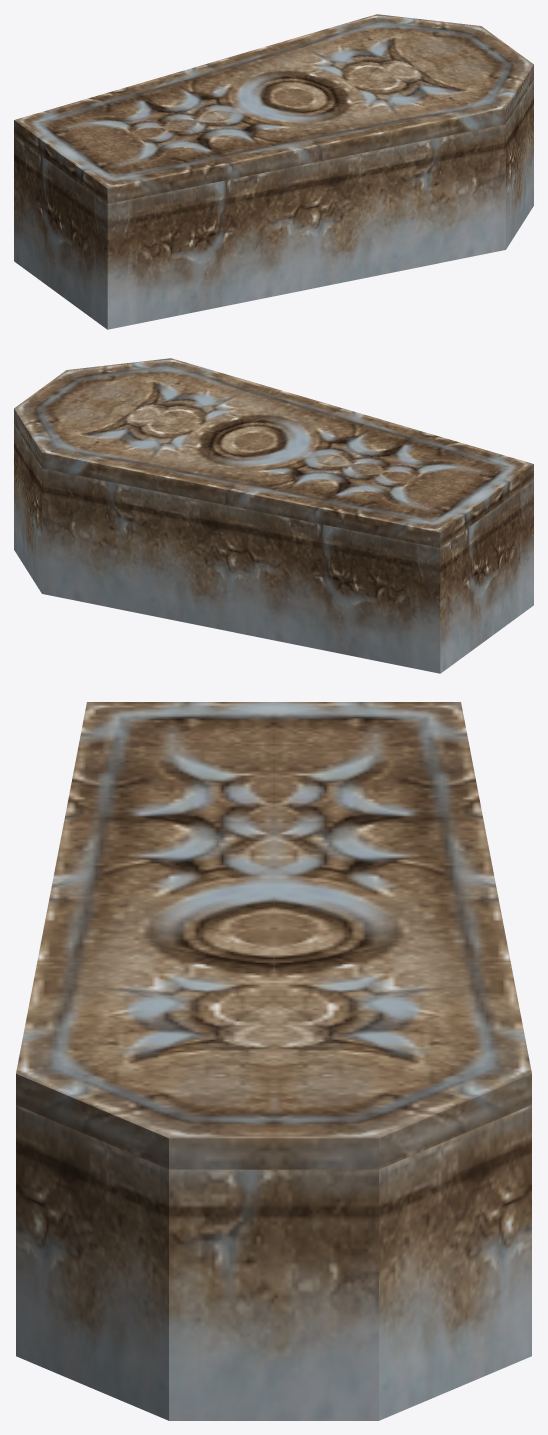
The model's file is rzjd_guancai_01.FBX.
3 renders of one model, top to bottom at view 1: azimuth 30°, elevation 25°; view 2: azimuth 150°, elevation 25°; view 3: azimuth 270°, elevation 25°, orthographic. The views are drawn at different scales.
Visible parts, largest first — view 1: rzjd_guancai_01; view 2: rzjd_guancai_01; view 3: rzjd_guancai_01.
Boxes of the visible parts, x1,y1,x2,y2 form: rzjd_guancai_01: (14, 14, 533, 329); rzjd_guancai_01: (14, 358, 533, 673); rzjd_guancai_01: (16, 702, 531, 1420).
Size of the model in its own units: 300 by 150 by 90.59.
